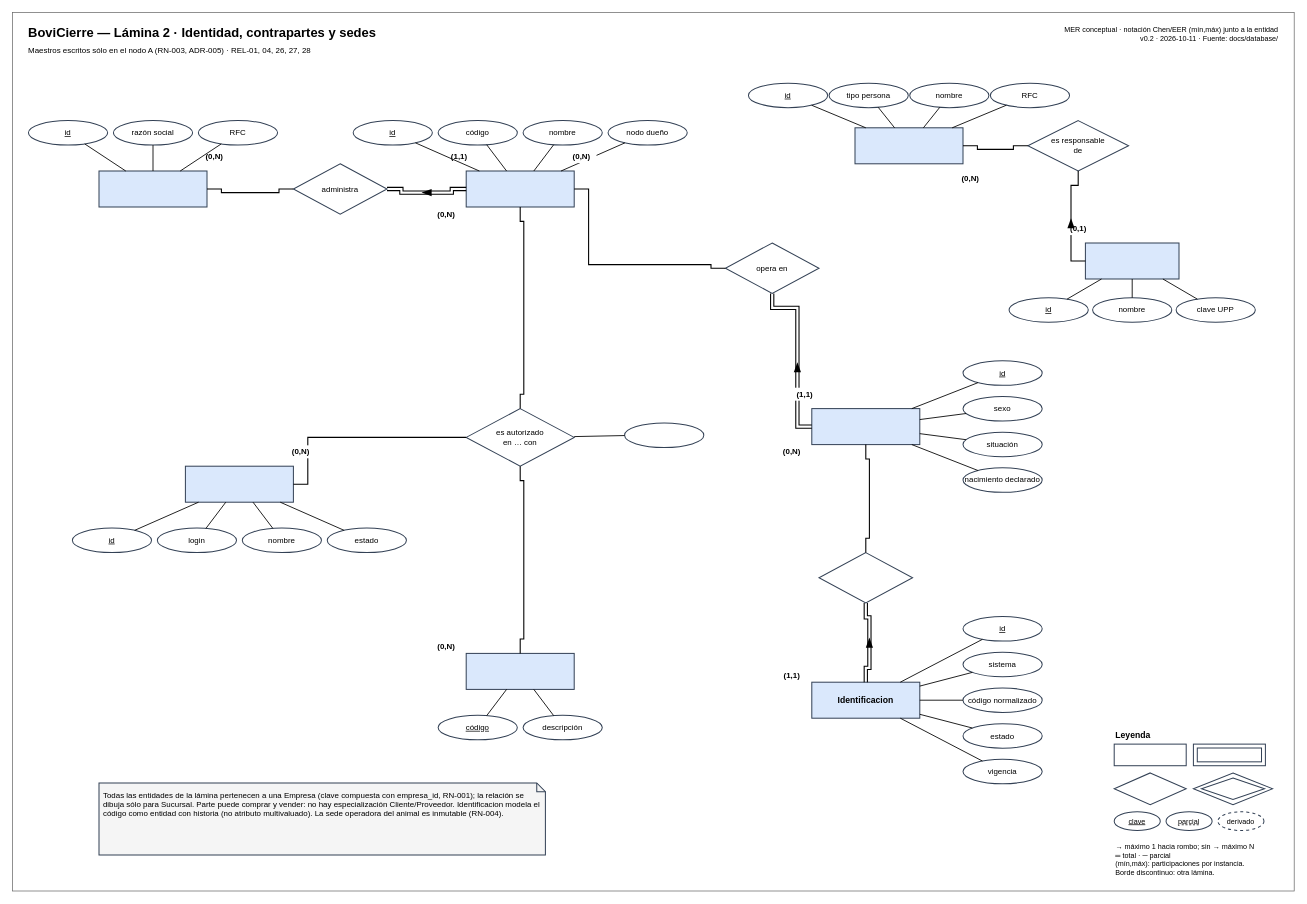
Some shapes in this 1307 by 904 pixel diagram are drawn without their labels. The box of each missing label's shape, as (x1, y1, x2, y2) in pixels:
Animal: (811, 408, 920, 445)
Empresa: (98, 170, 207, 207)
Entidad débil: (1193, 743, 1266, 766)
Entidad fuerte: (1113, 743, 1186, 766)
identif.: (1193, 772, 1273, 805)
Parte (contraparte): (854, 127, 963, 164)
posee: (818, 552, 913, 603)
Predio: (1085, 242, 1179, 279)
relación: (1113, 772, 1186, 805)
RolAplicacion: (465, 653, 574, 690)
Sucursal (sede): (465, 170, 574, 207)
Usuario: (185, 465, 294, 502)
vigente: (624, 422, 704, 448)
